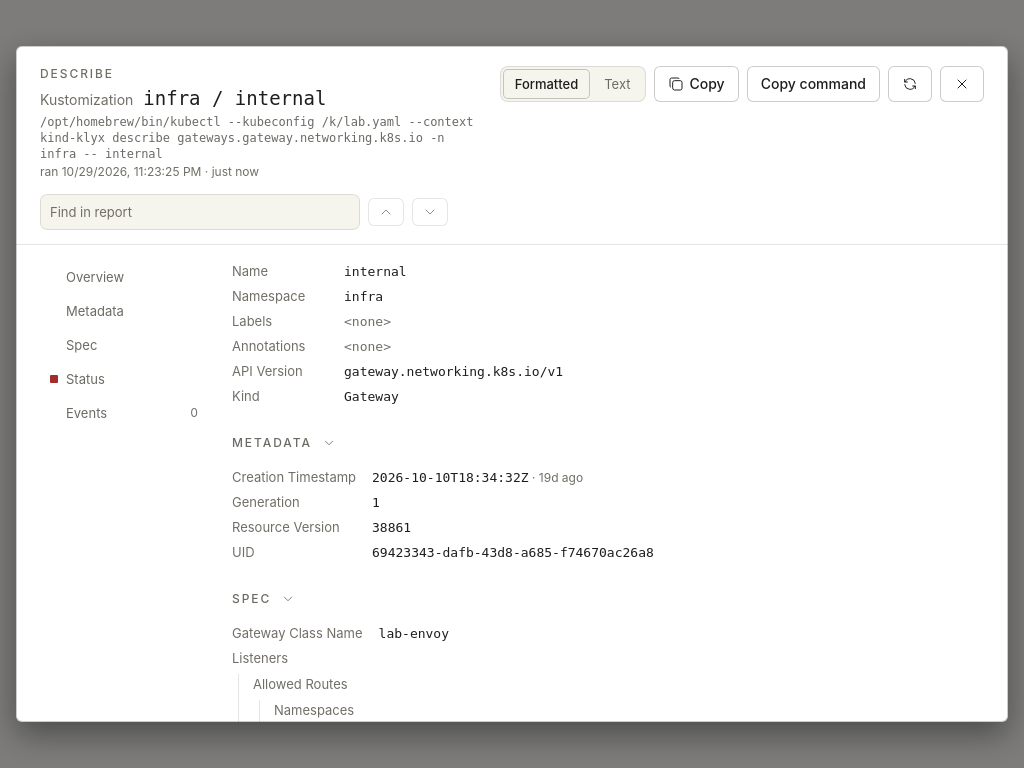
Test: DescribePane › clears the last report when a refresh is withheld
Check: the element with test id "describe-formatted" is shown, box left=232, top=261, right=984, bottom=722
Click the button named "Refresh" at (910, 84), box left=888, top=66, right=932, bottom=102
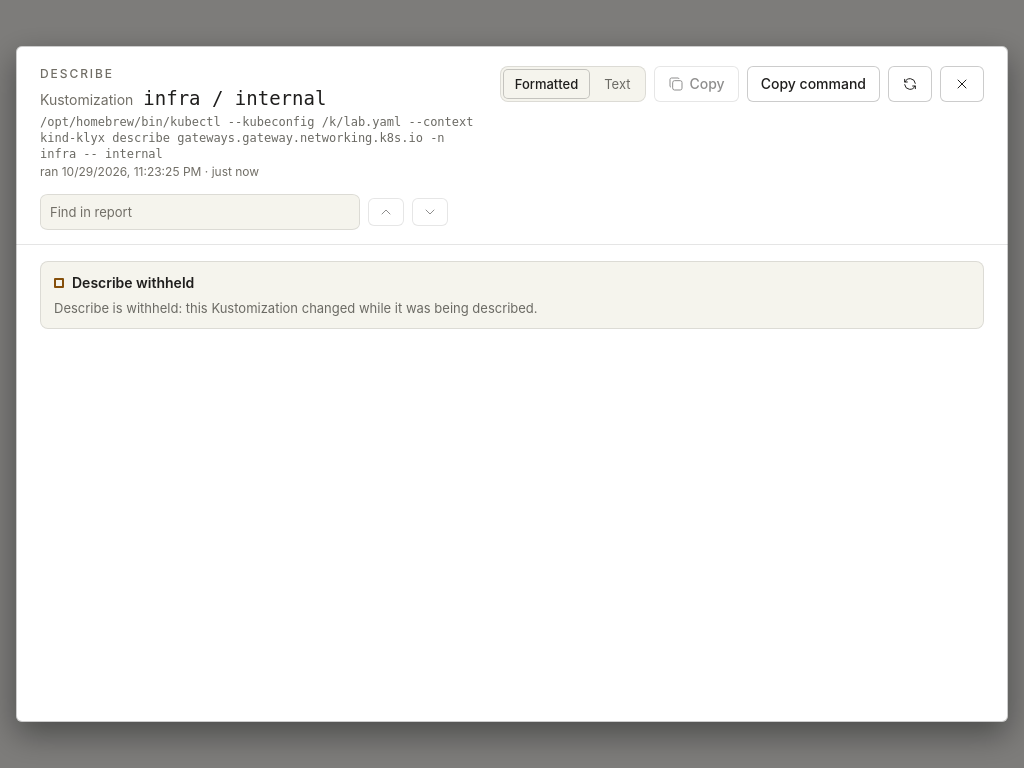
Check: the message with test id "describe-withheld" is shown, box left=40, top=261, right=984, bottom=329
Check: the element with test id "describe-formatted" is gone
Check: the button "Copy" is disabled, box left=654, top=66, right=739, bottom=102
Note: a failed refresh after it has no report to fall back to
Click the button named "Refresh" at (910, 84), box left=888, top=66, right=932, bottom=102
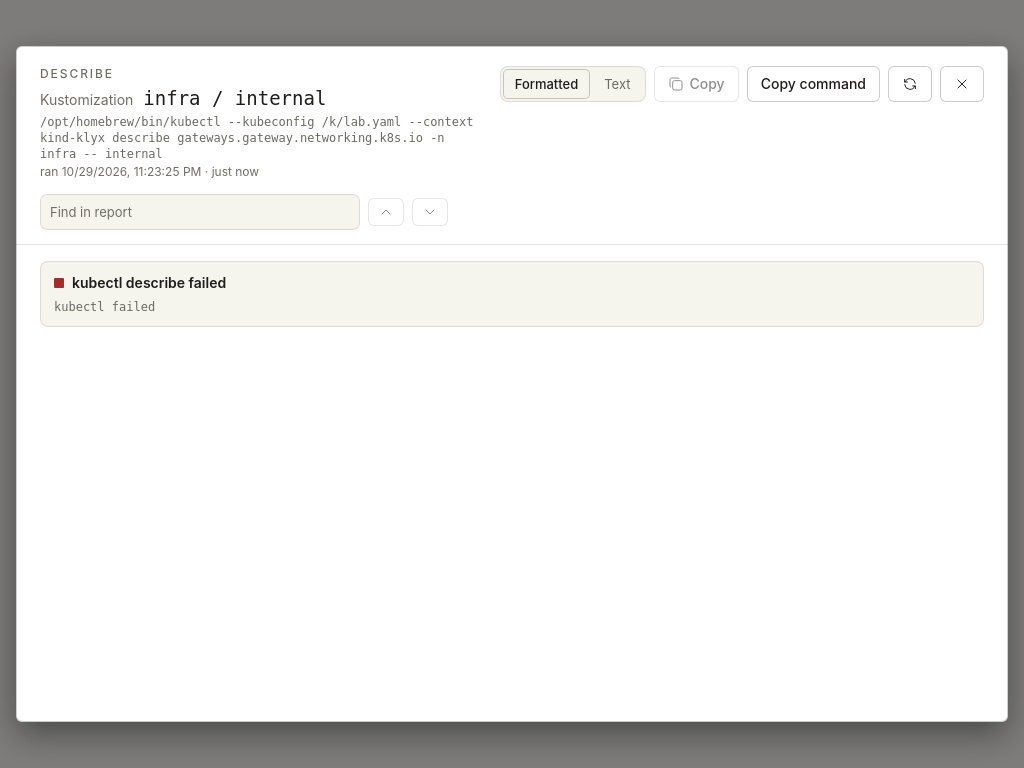
Check: the message with test id "describe-withheld" is gone
